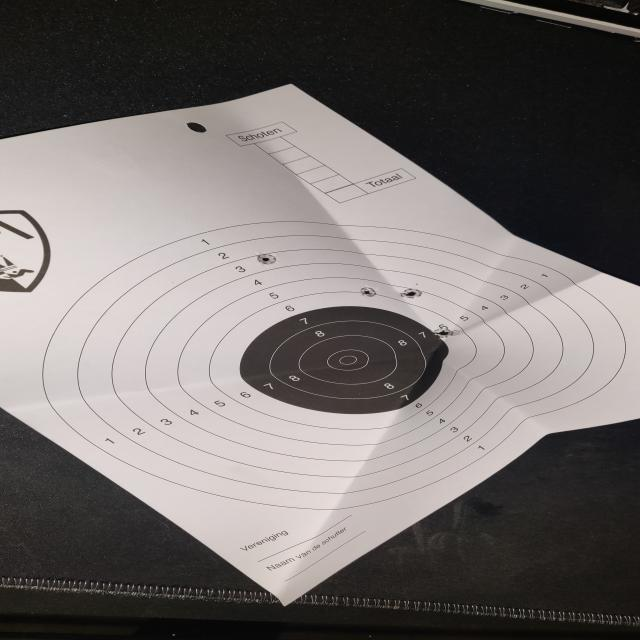4: (256, 253, 278, 264)
6: (397, 288, 425, 300)
7: (361, 286, 378, 298)
8: (428, 327, 461, 340)
Black Contour: (238, 306, 450, 414)
Target: (40, 218, 632, 514)
